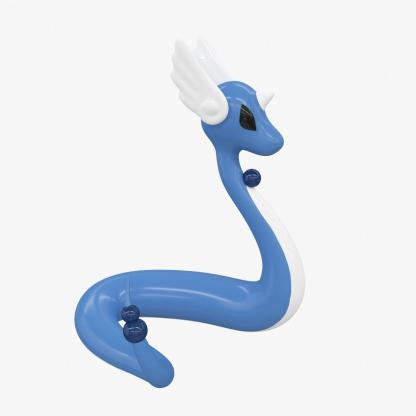Dragonair: (80, 28, 309, 392)
